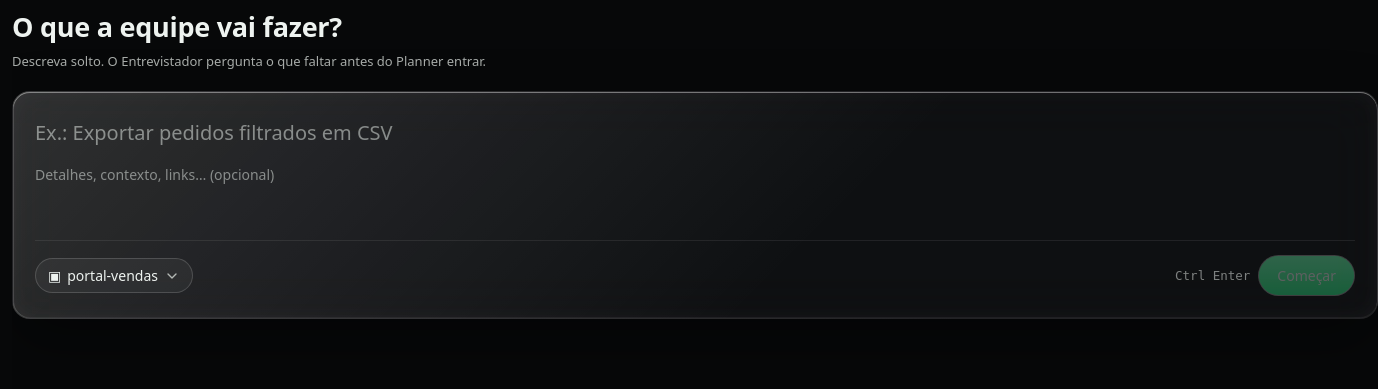
it: Composer (nova tarefa) › erro do gateway aparece inline e não trava o formulário
Check: the dropdown named "repositório" is shown, box [35, 258, 193, 293]
Type "Algo" into the field named "título" at (695, 133), box [35, 114, 1355, 152]
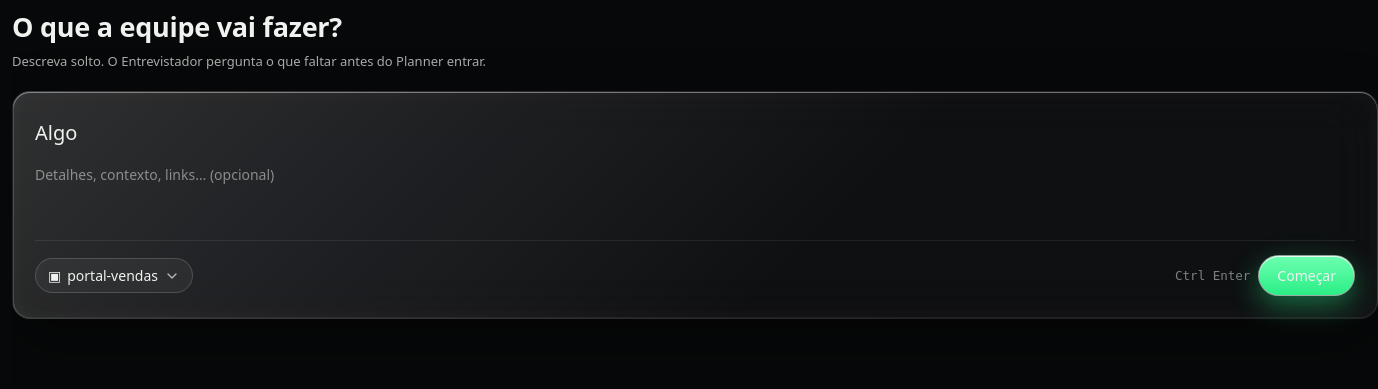
Check: the button "Começar" is enabled
Click the button "Começar" at (1307, 276), box [1258, 255, 1355, 296]
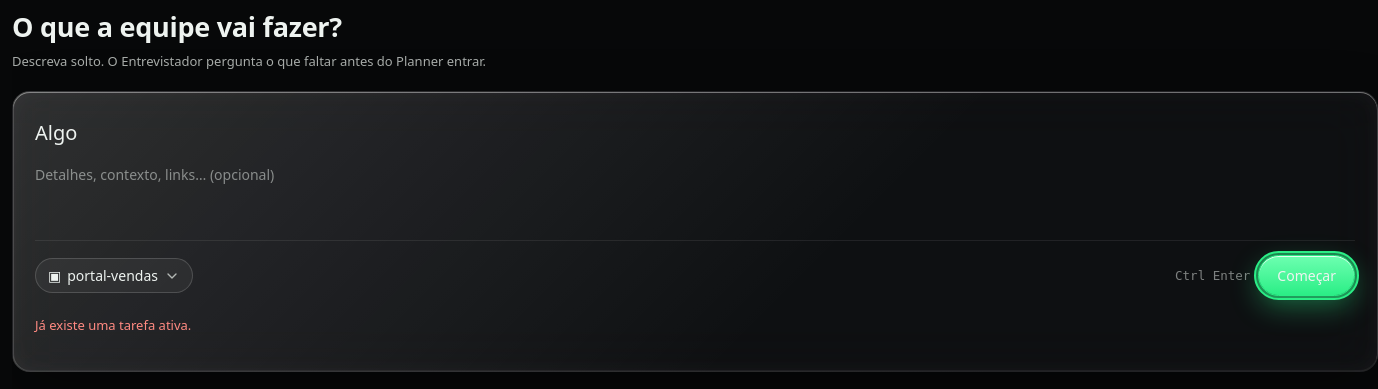
Check: the button "Começar" is enabled, box [1258, 255, 1355, 296]
Check: the message reads "Já existe uma tarefa ativa.", box [35, 316, 191, 334]
